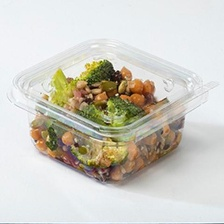plastic_box: (0, 28, 224, 193)
